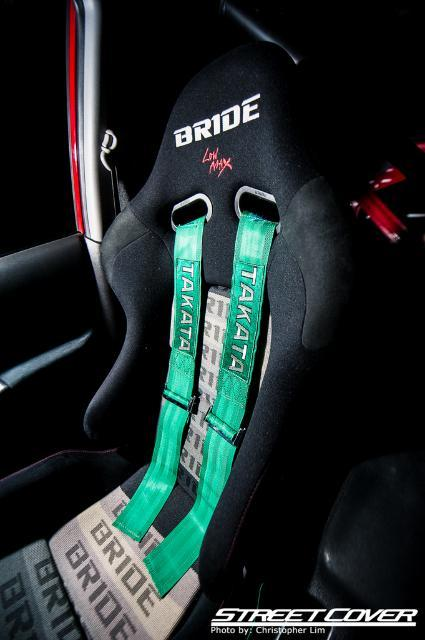Seatbelt: (108, 130, 132, 216)
